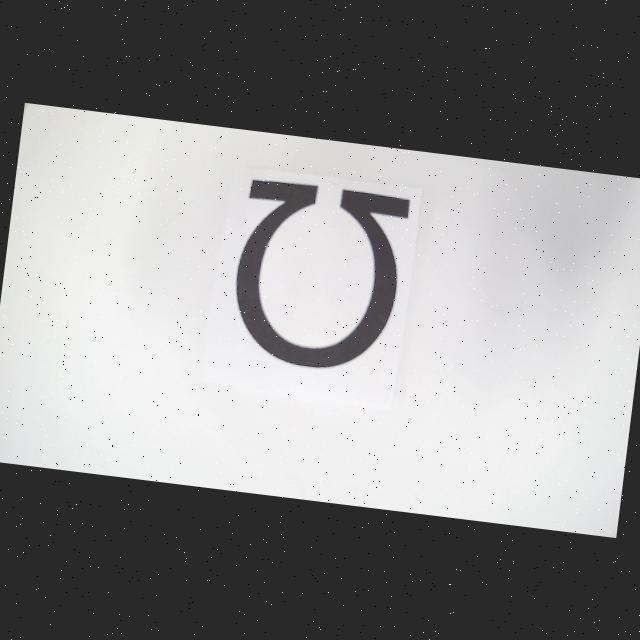OMEGA: (227, 178, 410, 376)
